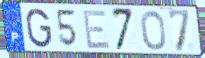5: (54, 8, 79, 50)
7: (167, 8, 192, 54), (112, 6, 135, 53)
E: (82, 9, 112, 50)
G: (25, 8, 54, 50)
O: (140, 10, 168, 52)
